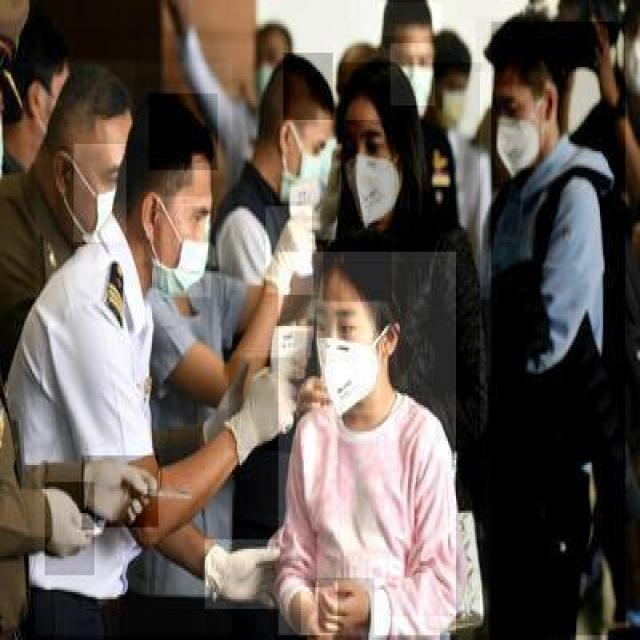gloves: (229, 357, 296, 453), (81, 455, 160, 530), (205, 540, 280, 612), (45, 482, 96, 578), (266, 206, 314, 295)
